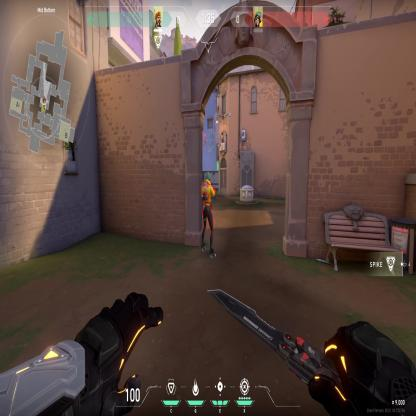enemy: (199, 169, 217, 260)
